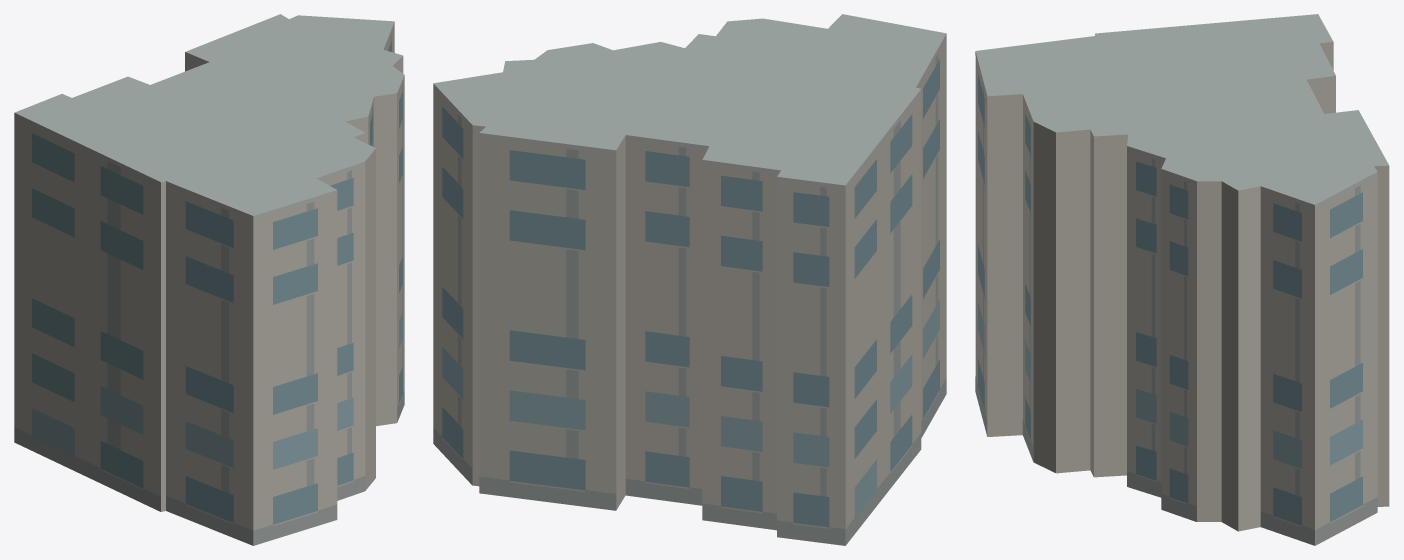
Rendered from survey-upis-32806878.glb.
3 renders of one model, left to right at view 1: azimuth 30°, elevation 25°; view 2: azimuth 150°, elevation 25°; view 3: azimuth 270°, elevation 25°, orthographic. The views are drawn at different scales.
Visible parts, largest first — view 1: survey-upis-32806878.tmp; view 2: survey-upis-32806878.tmp; view 3: survey-upis-32806878.tmp.
Part boxes in pixels (box(x1,y1,x2,y2)): survey-upis-32806878.tmp: box(14, 14, 404, 545); survey-upis-32806878.tmp: box(433, 14, 946, 545); survey-upis-32806878.tmp: box(975, 14, 1389, 545).
Bounding box in the file's own units: 22 × 18.3 × 20.15.
